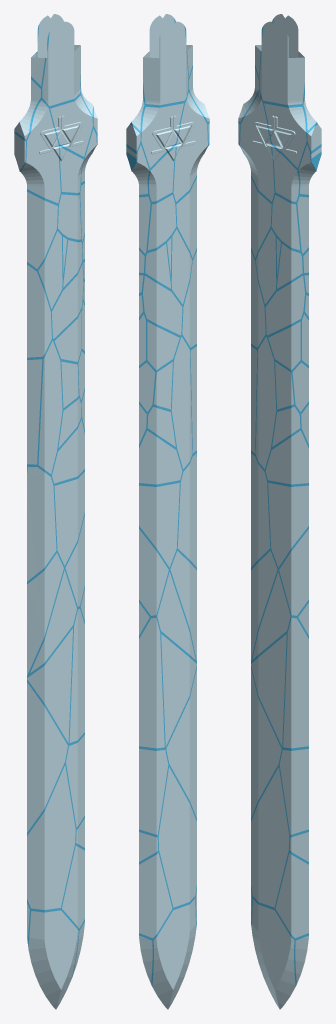
File: sword_blade.obj
The picture shows the model from 3 angles, left to right: view 1: azimuth 30°, elevation 25°; view 2: azimuth 210°, elevation 25°; view 3: azimuth 330°, elevation 25°; orthographic projection.
Parts seen in each view (by area): view 1: Blade_Base, Blade_Crack; view 2: Blade_Base, Blade_Crack; view 3: Blade_Base, Blade_Crack.
Boxes of the visible parts, x1,y1,x2,y2 form: Blade_Base: (14, 14, 97, 1009); Blade_Crack: (14, 24, 97, 977); Blade_Base: (126, 14, 209, 1009); Blade_Crack: (126, 19, 209, 986); Blade_Base: (238, 14, 321, 1009); Blade_Crack: (238, 19, 321, 986).
Size of the model in its own units: 0.2745 by 3.56 by 0.0768.
